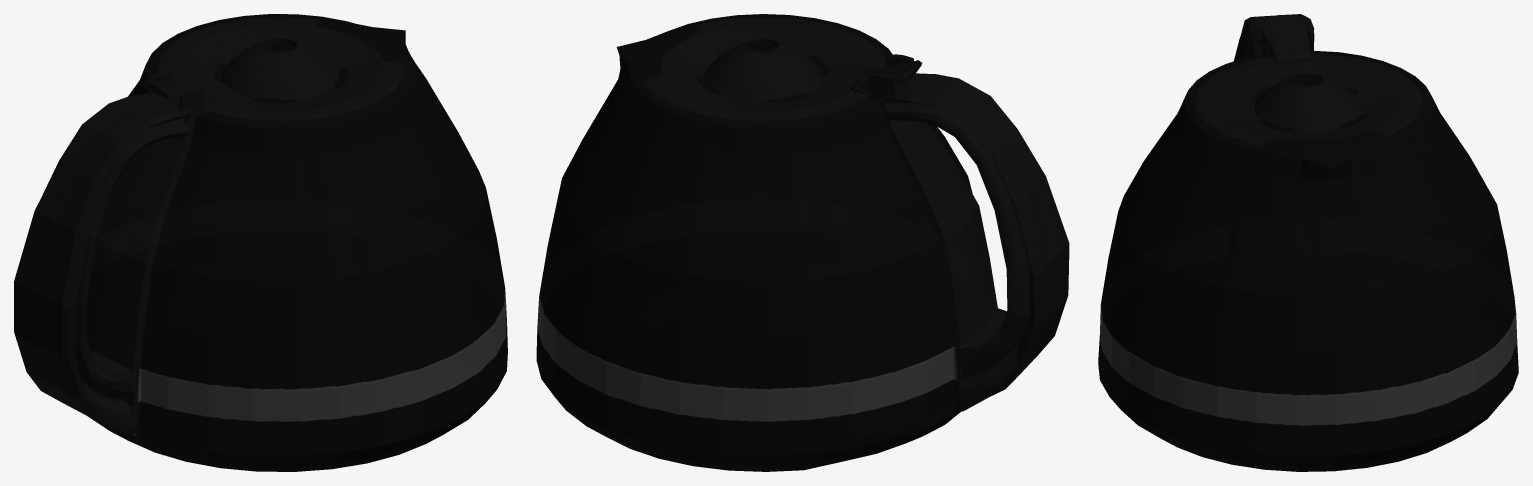
The model's file is CoffePot.fbx.
3 views of the same model, side by side, from view 1: azimuth 30°, elevation 25°; view 2: azimuth 150°, elevation 25°; view 3: azimuth 270°, elevation 25° (orthographic). The views are drawn at different scales.
Parts seen in each view (by area): view 1: Export CoffePot; view 2: Export CoffePot; view 3: Export CoffePot.
Boxes of the visible parts, x1=… form: Export CoffePot: x1=14, y1=14, x2=507, y2=471; Export CoffePot: x1=536, y1=14, x2=1069, y2=471; Export CoffePot: x1=1098, y1=14, x2=1518, y2=471.
Bounding box in the file's own units: 12.3 × 8.98 × 10.4.
